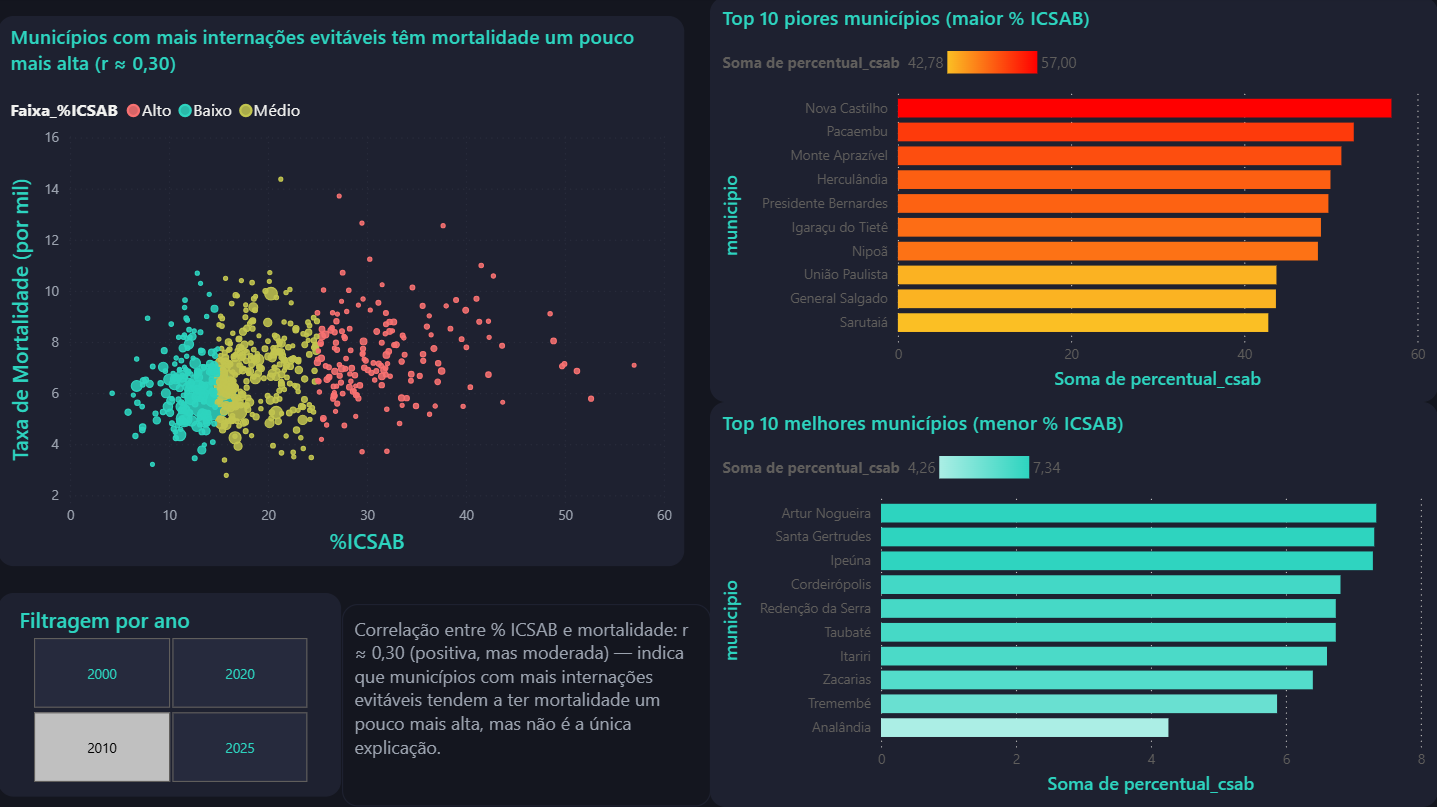

What the dashboard file says about the page in this screenshot:
{"tool":"powerbi","page":{"name":"Correlação","canvas":[1280,720],"ordinal":2},"visuals":[{"type":"slicer","title":"Filtragem por ano","fields":{"Values":["dataset_final_projeto_saude_sp_BR_1.ano"]},"box":[0,530.1,305.4,180.9],"z":0},{"type":"scatterChart","title":"Municípios com mais internações evitáveis têm mortalidade um pouco mais alta (r ≈ 0,30)","fields":{"X":["Sum(dataset_final_projeto_saude_sp_BR_1.percentual_csab)"],"Y":["Sum(dataset_final_projeto_saude_sp_BR_1.taxa_mortalidade_por_mil)"],"Size":["Sum(dataset_final_projeto_saude_sp_BR_1.populacao)"],"Category":["dataset_final_projeto_saude_sp_BR_1.municipio"],"Series":["dataset_final_projeto_saude_sp_BR_1.Faixa_%ICSAB"]},"box":[0,16.5,609.8,489.2],"z":1000},{"type":"textbox","box":[305.4,539.8,327.8,179.9],"z":2000},{"type":"clusteredBarChart","title":"Top 10 piores municípios (maior % ICSAB)","fields":{"Category":["dataset_final_projeto_saude_sp_BR_1.municipio"],"Y":["Sum(dataset_final_projeto_saude_sp_BR_1.percentual_csab)"]},"box":[633.2,0,646.8,359.9],"z":3000},{"type":"clusteredBarChart","title":" Top 10 melhores municípios (menor % ICSAB)","fields":{"Category":["dataset_final_projeto_saude_sp_BR_1.municipio"],"Y":["Sum(dataset_final_projeto_saude_sp_BR_1.percentual_csab)"]},"box":[633.2,359.9,646.8,359.9],"z":4000}]}

Visuals, with their boxes in screenshot pixels (x1, y1, x2, y2), scaled from the page's 1280x720 canvas onto the 1437x807 screenshot:
"Filtragem por ano" slicer: 0,594,343,797
"Municípios com mais internações evitáveis têm mortalidade um pouco mais alta (r ≈ 0,30)" scatterChart: 0,18,685,567
textbox: 343,605,711,806
"Top 10 piores municípios (maior % ICSAB)" clusteredBarChart: 711,0,1436,403
" Top 10 melhores municípios (menor % ICSAB)" clusteredBarChart: 711,403,1436,806
